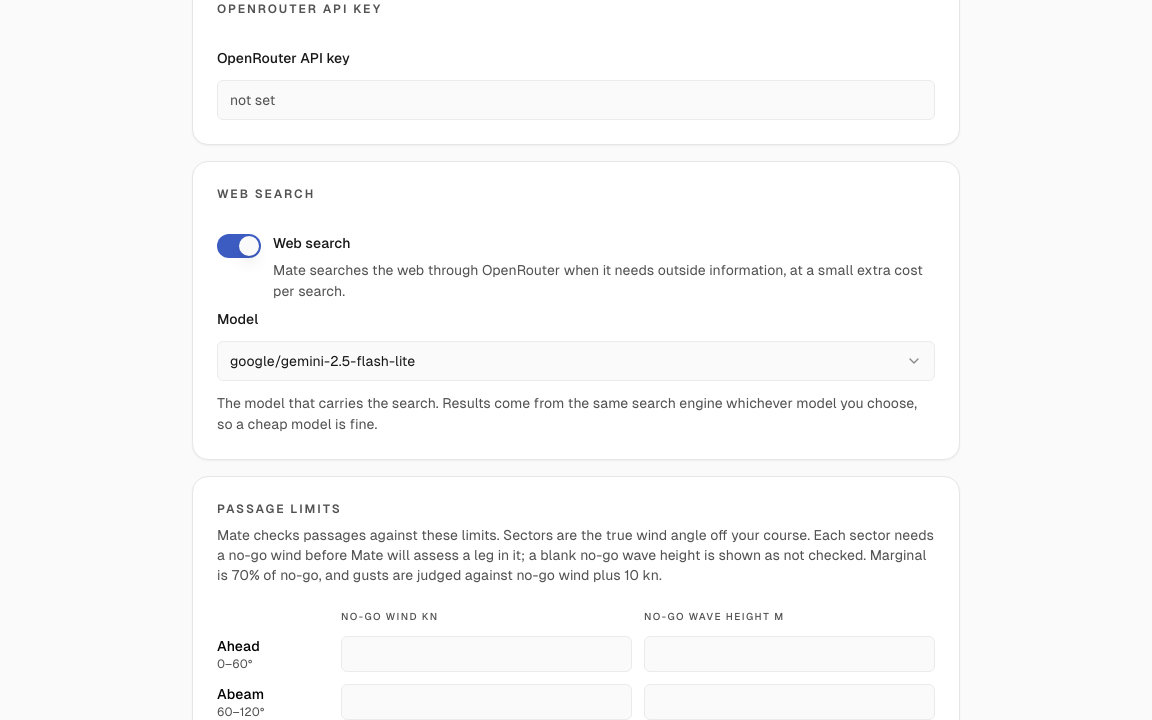
Scenario: assistant settings-draft plumbing › selecting a catalog row sets the search model, from an unfiltered catalog
The image size is (1152, 720).
(page scrolled)
Click the dropdown named "Search model" at [323, 361], box [217,341,935,381]
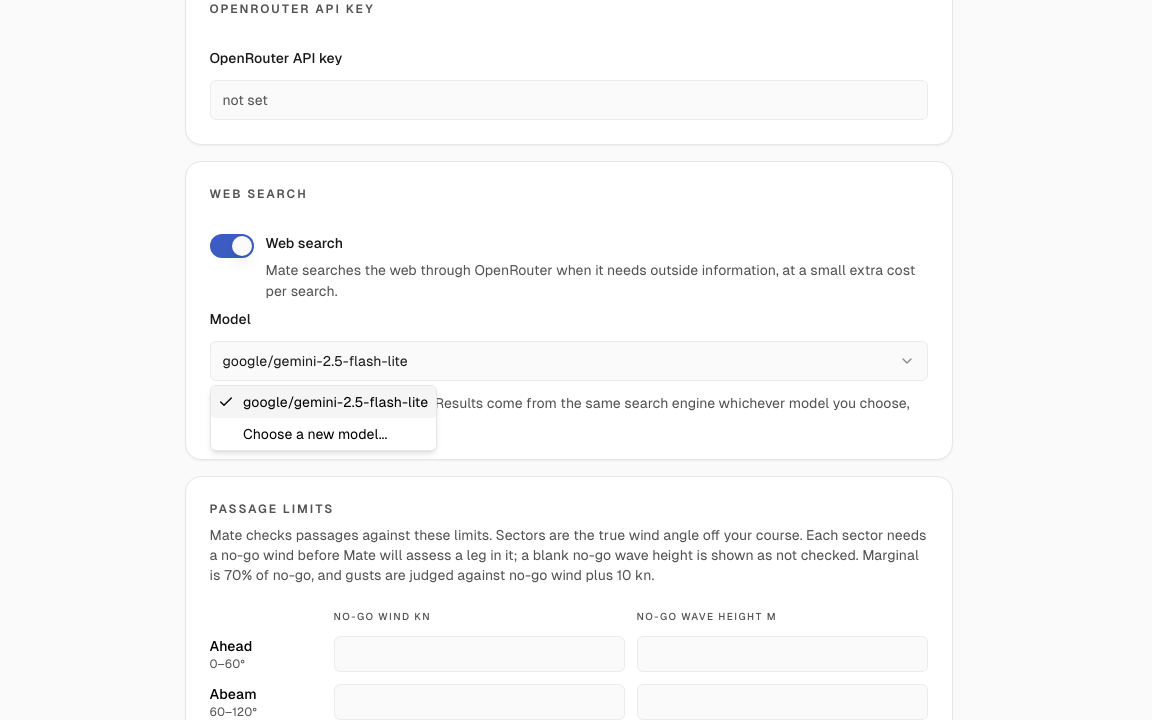
Click the option "Choose a new model..." at [315, 434], box [243,426,387,442]
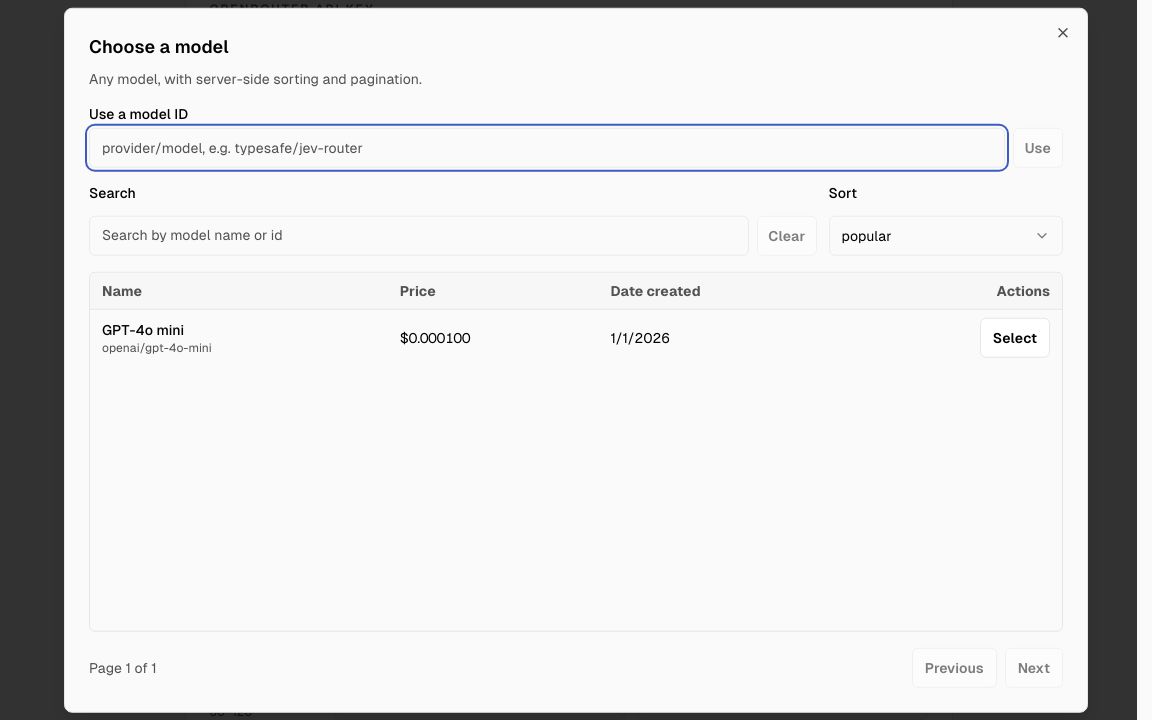
Click the button "Select" at [1015, 337], box [980,317,1050,357]
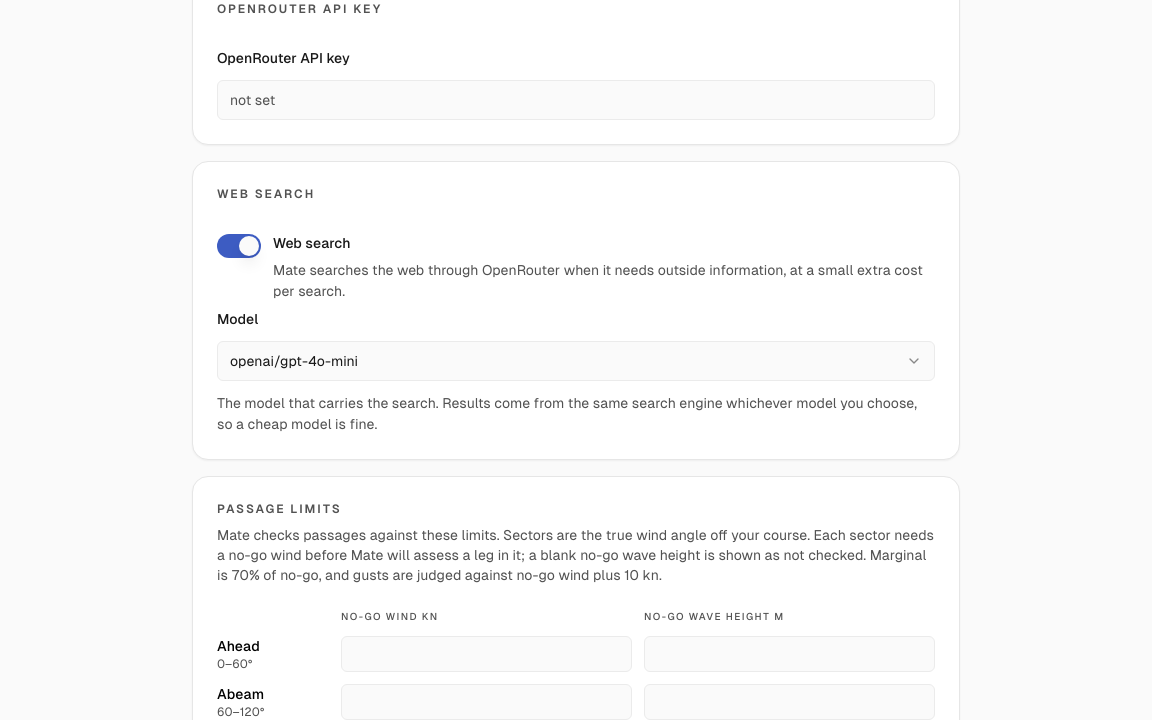
expect the text "openai/gpt-4o-mini" is shown: met, box [230,351,358,371]
